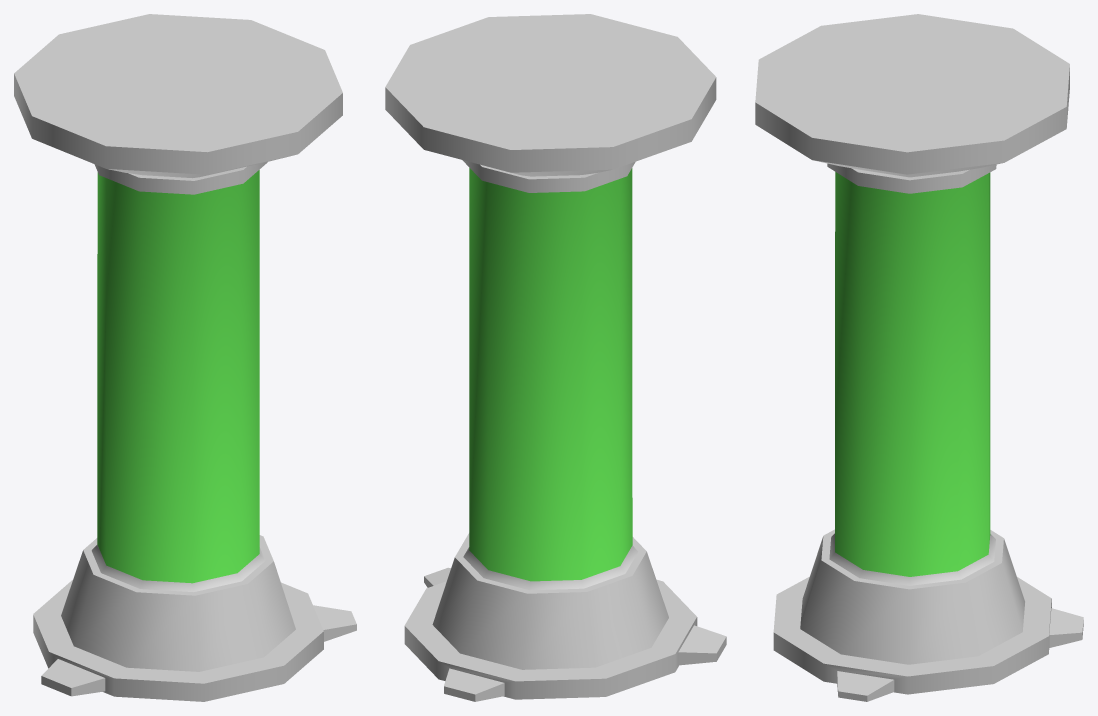
The model's file is base 1 cryochamber.fbx.
3 views of the same model, side by side, from view 1: azimuth 30°, elevation 25°; view 2: azimuth 150°, elevation 25°; view 3: azimuth 270°, elevation 25° (orthographic).
Parts seen in each view (by area): view 1: Cylinder.002; view 2: Cylinder.002; view 3: Cylinder.002.
Part boxes in pixels (<box>): Cylinder.002: <box>14,14,356,701</box>; Cylinder.002: <box>385,14,726,701</box>; Cylinder.002: <box>755,14,1083,701</box>.
Size of the model in its own units: 423 by 749 by 405.
